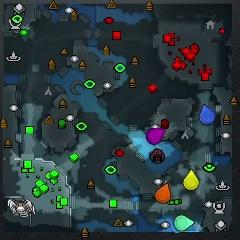p1: (199, 105, 215, 124)
p2: (175, 214, 194, 231)
p3: (146, 128, 164, 144)
p4: (184, 170, 199, 189)
p5: (155, 183, 171, 203)
